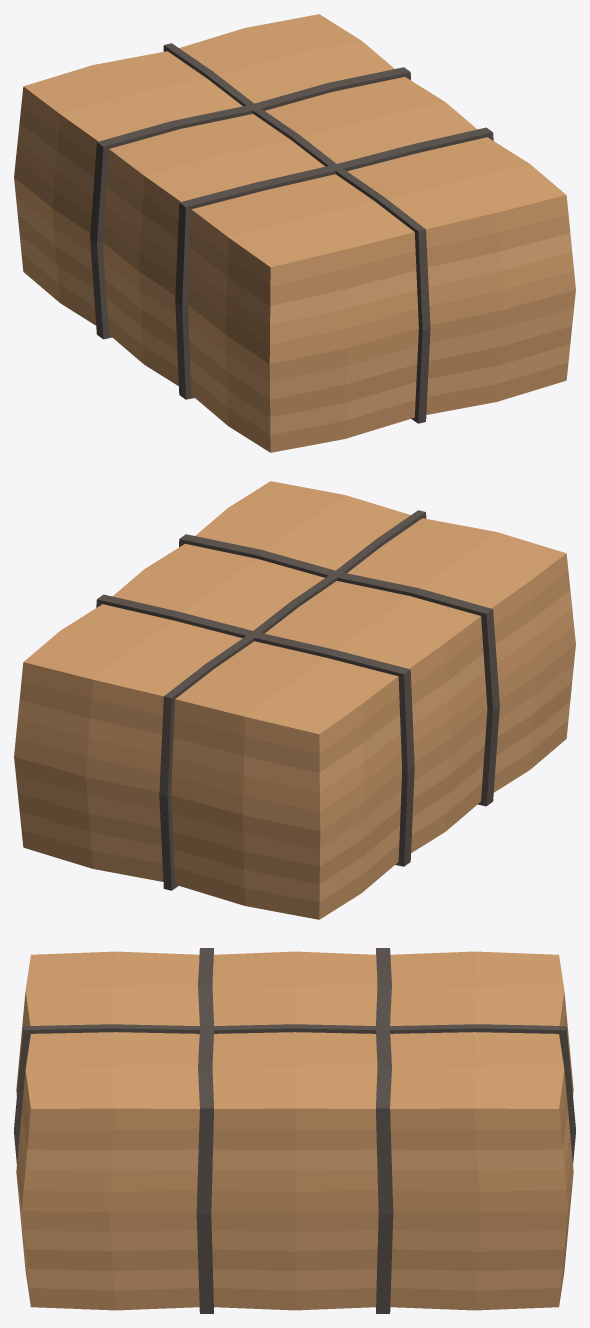
File: Mesh_Props_Hay_02.FBX
The picture shows the model from 3 angles, top to bottom: view 1: azimuth 30°, elevation 25°; view 2: azimuth 150°, elevation 25°; view 3: azimuth 270°, elevation 25°; orthographic projection. The views are drawn at different scales.
Visible parts, largest first — view 1: Mesh_Props_Hay_02; view 2: Mesh_Props_Hay_02; view 3: Mesh_Props_Hay_02.
Part boxes in pixels (<box>): Mesh_Props_Hay_02: <box>14,14,575,452</box>; Mesh_Props_Hay_02: <box>14,481,575,919</box>; Mesh_Props_Hay_02: <box>14,948,575,1313</box>.
Size of what is drawn, in the model's own units: 138 by 197 by 81.29.
